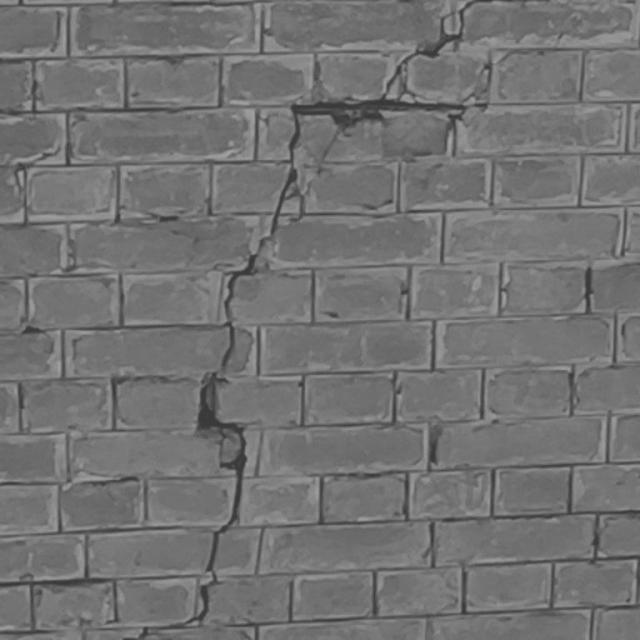crack: (122, 1, 492, 639)
